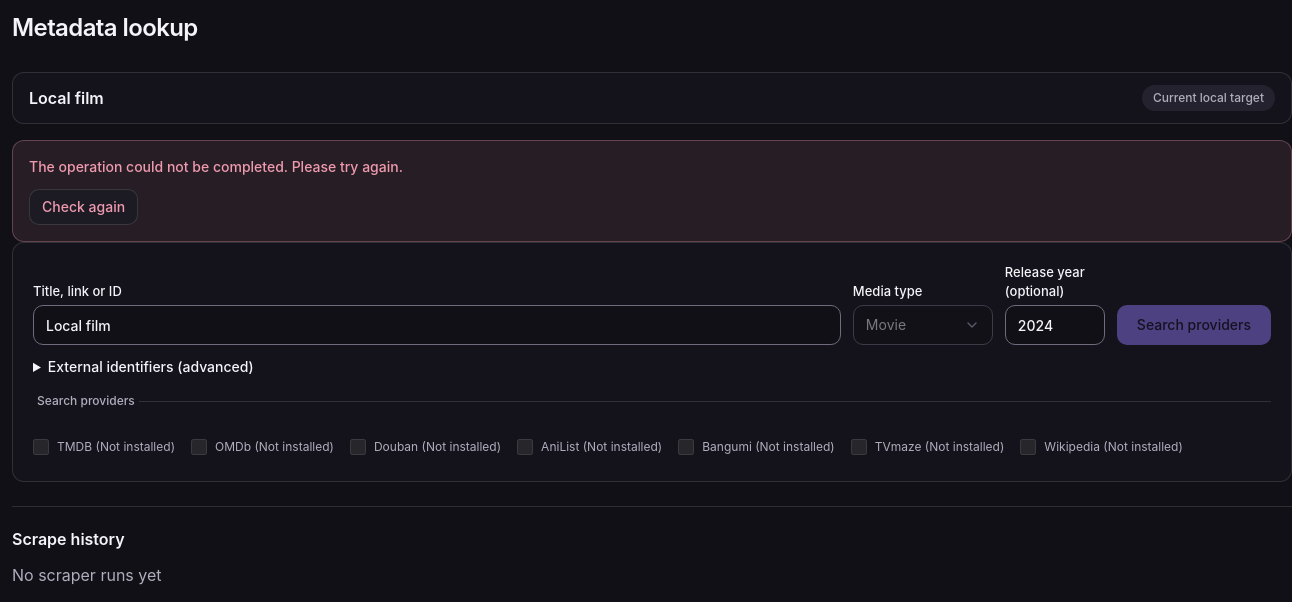
it: retries source readiness in place without enabling providers or starting a search
Expected: the message "The operation could not be completed. Please try again. Check again" is shown, x1=12 y1=140 x2=1291 y2=242
Step 1. Click the button "Check again" → (84, 207), box x1=29 y1=189 x2=138 y2=225
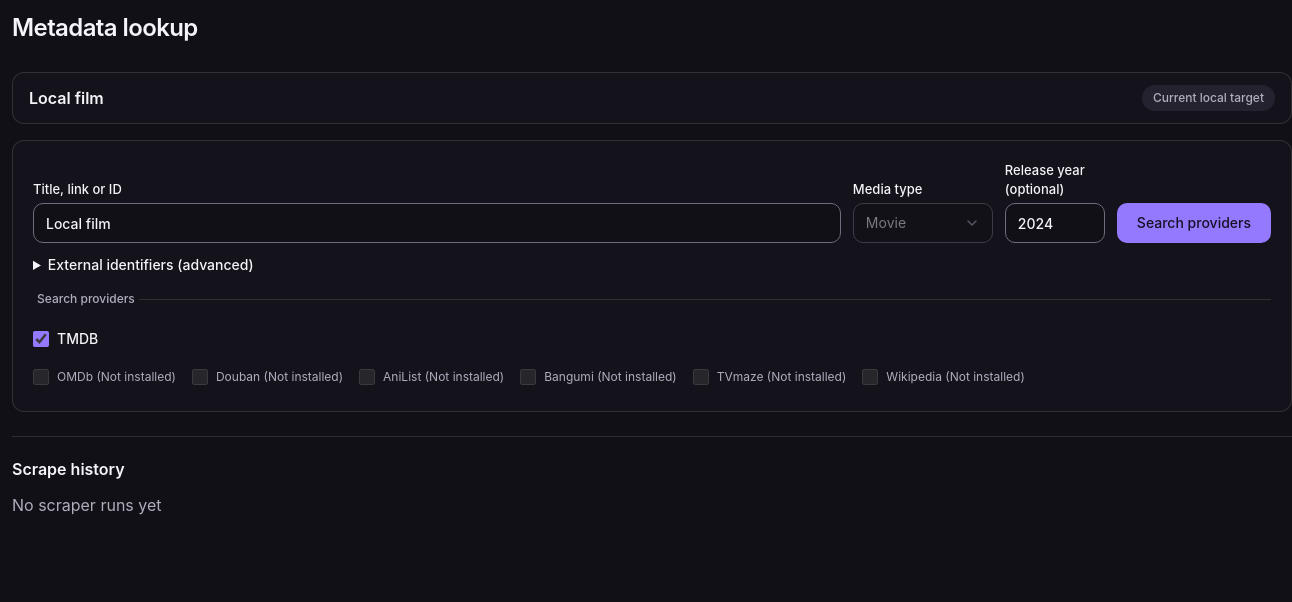
Result: the button "Search providers" is enabled at x1=1117 y1=203 x2=1271 y2=243
